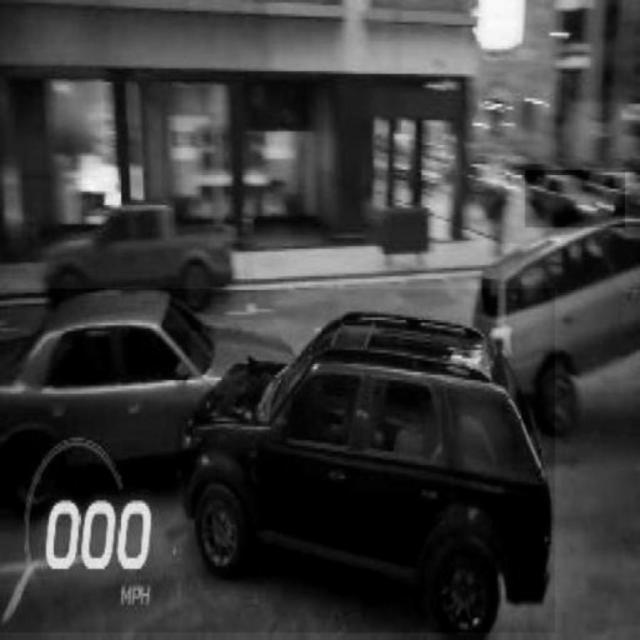accident: (0, 289, 554, 632)
vehicle: (476, 218, 640, 435), (33, 203, 238, 307), (526, 170, 626, 227)
